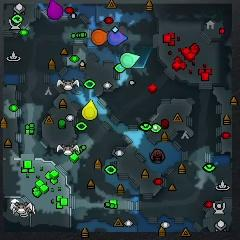p1: (108, 30, 128, 45)
p2: (120, 52, 140, 68)
p3: (48, 0, 63, 20)
p4: (82, 100, 97, 120)
p5: (91, 30, 107, 46)
